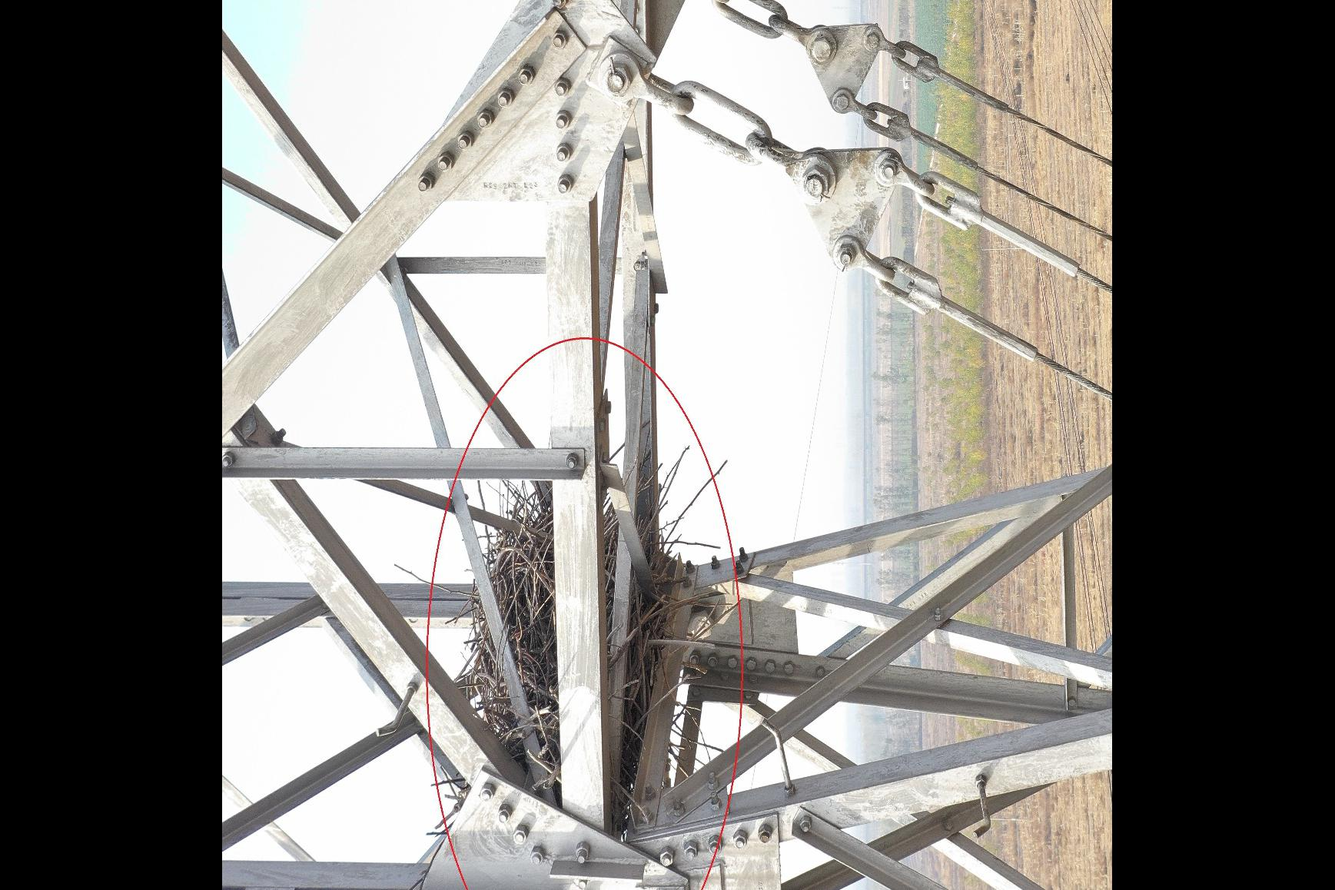nest: (459, 449, 730, 805)
